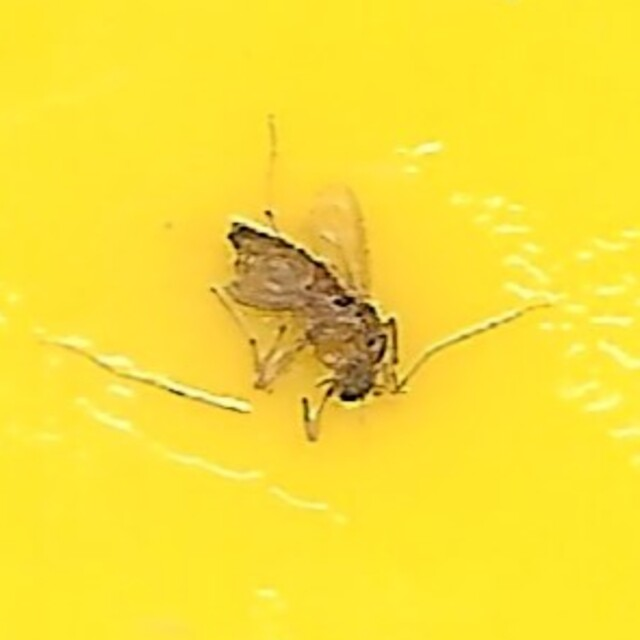Nematocera: (217, 201, 423, 439)
